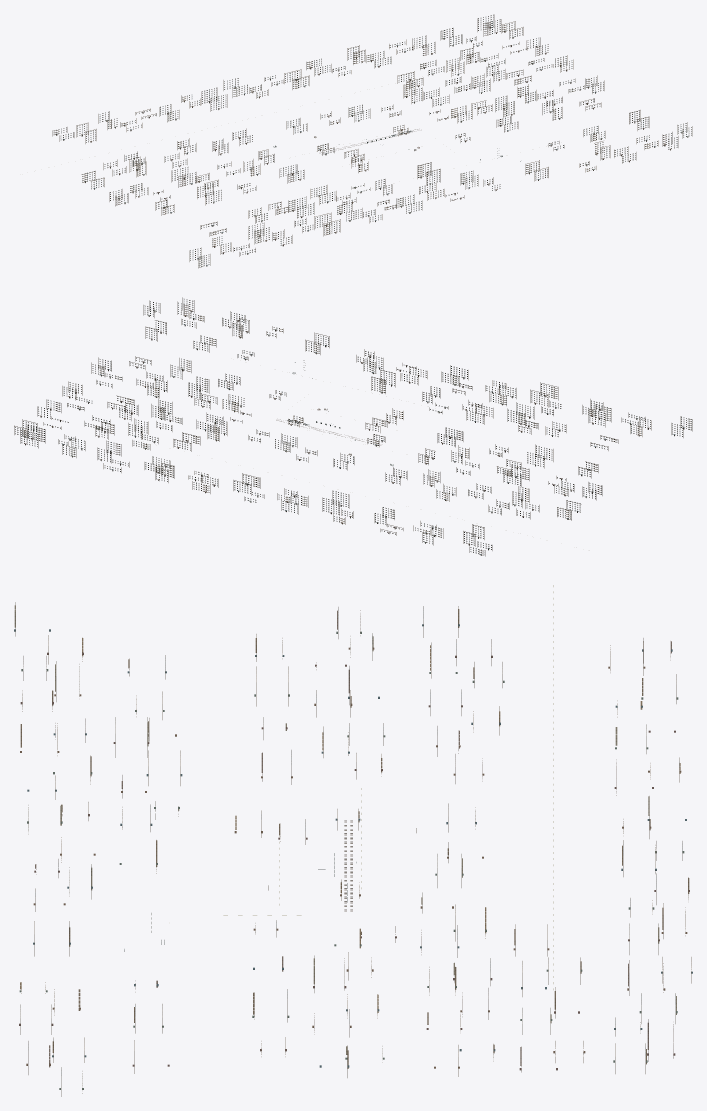
File: detail.glb
3 renders of one model, top to bottom at view 1: azimuth 30°, elevation 25°; view 2: azimuth 150°, elevation 25°; view 3: azimuth 270°, elevation 25°, orthographic. The views are drawn at different scales.
Bounding box in the file's own units: 990 × 24 × 555.
